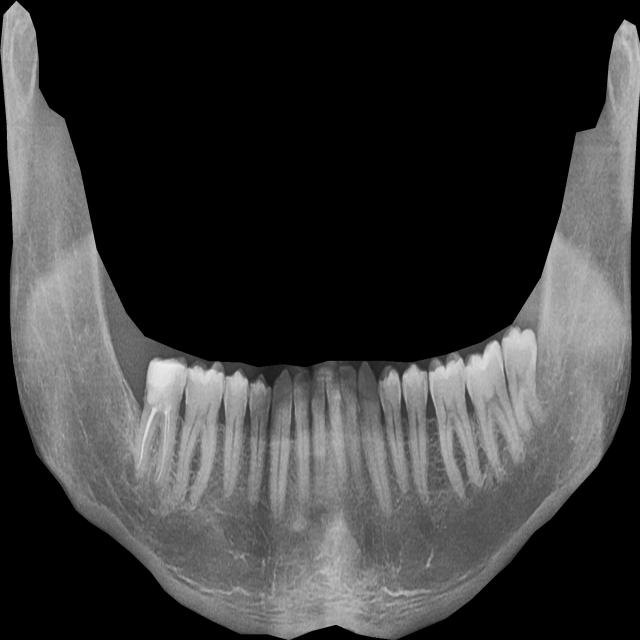mandibula: (0, 1, 640, 640)
